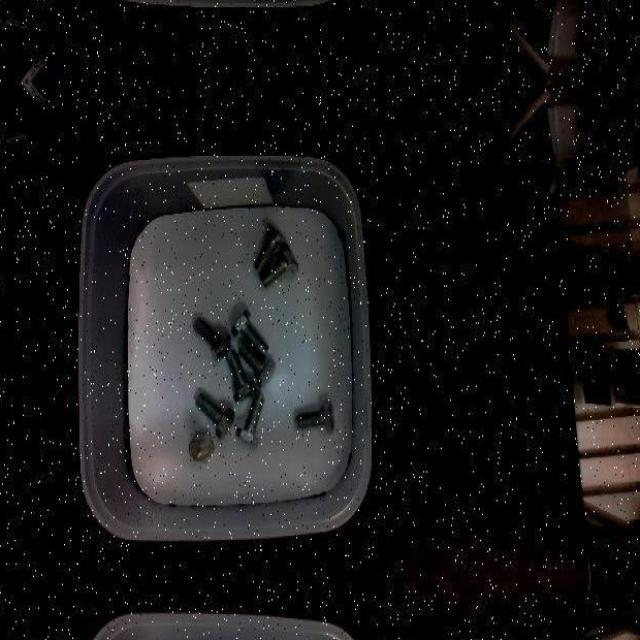screw: (232, 309, 270, 358), (196, 392, 235, 438), (226, 350, 258, 404), (240, 340, 276, 388), (193, 317, 231, 362), (260, 242, 298, 286), (254, 222, 286, 274), (236, 392, 266, 446), (296, 398, 336, 433), (189, 430, 215, 462)
